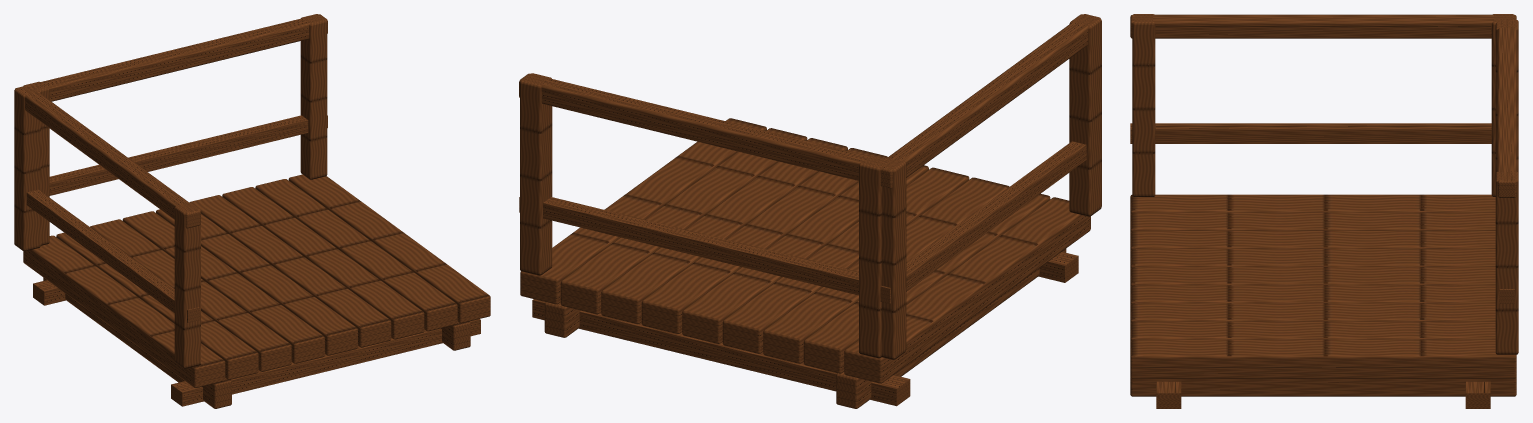
Rendered from modular-survival-base-builder-landing-corner-guard-d8e1eb9d__24198.glb.
The picture shows the model from 3 angles, left to right: view 1: azimuth 30°, elevation 25°; view 2: azimuth 150°, elevation 25°; view 3: azimuth 270°, elevation 25°; orthographic projection. The views are drawn at different scales.
Parts seen in each view (by area): view 1: landing-corner-guard; view 2: landing-corner-guard; view 3: landing-corner-guard.
Part boxes in pixels (<box>): landing-corner-guard: <box>14,14,490,408</box>; landing-corner-guard: <box>519,14,1101,408</box>; landing-corner-guard: <box>1130,14,1518,408</box>.
Bounding box in the file's own units: 2.06 × 1.3 × 2.01.
1 material, 1 textured.
